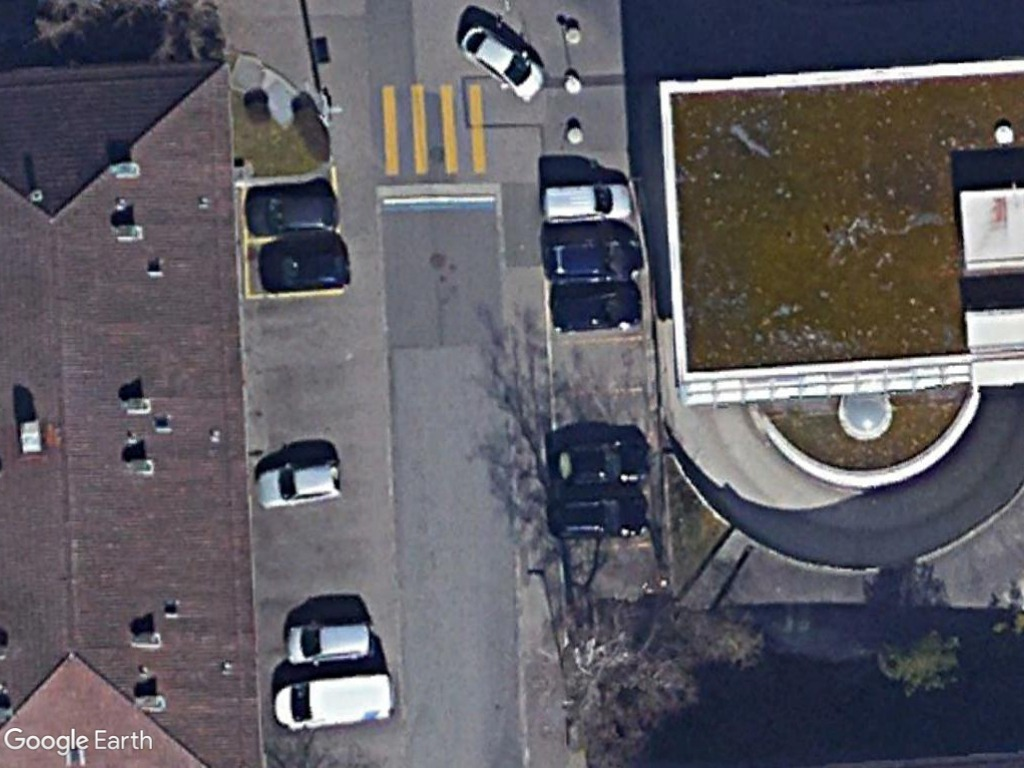car: (455, 20, 548, 104), (252, 450, 346, 513), (282, 617, 378, 671), (242, 189, 343, 235), (538, 180, 637, 225)
van: (268, 668, 399, 737)
